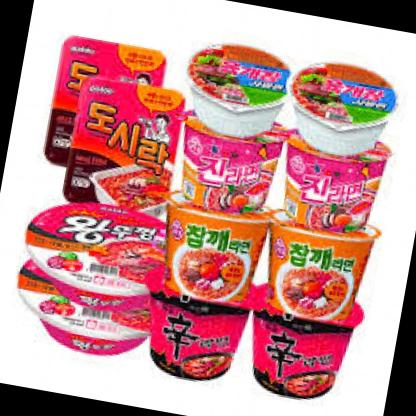Ramen: (1, 254, 182, 374), (11, 188, 186, 312), (239, 282, 379, 406), (252, 204, 390, 326), (134, 264, 266, 390), (266, 122, 400, 236), (156, 193, 274, 307), (170, 108, 292, 218), (282, 57, 404, 159), (178, 39, 297, 134)
